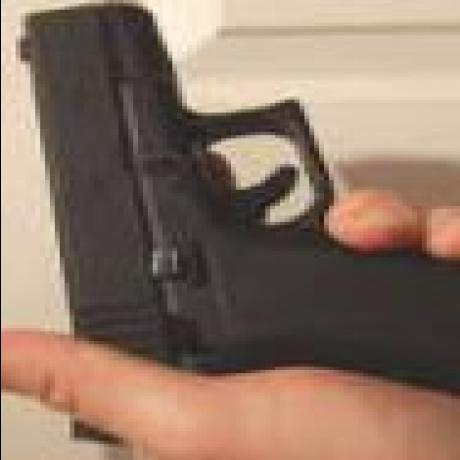weapon: (9, 8, 460, 445)
